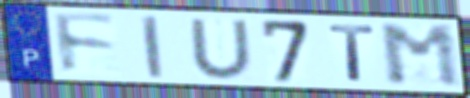7: (260, 17, 312, 85)
F: (50, 10, 120, 77)
I: (138, 13, 166, 80)
M: (376, 23, 466, 89)
T: (326, 22, 379, 84)
U: (186, 18, 257, 81)
